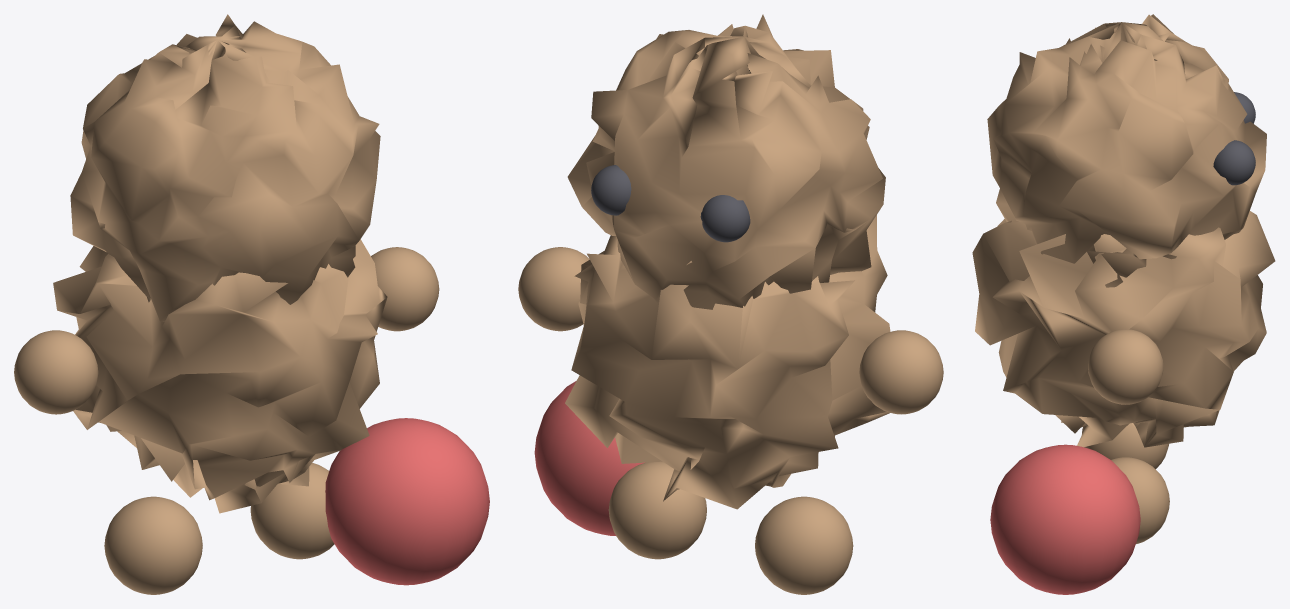
File: clay_dog_red_ball.glb
The picture shows the model from 3 angles, left to right: view 1: azimuth 30°, elevation 25°; view 2: azimuth 150°, elevation 25°; view 3: azimuth 270°, elevation 25°; orthographic projection. The views are drawn at different scales.
Parts seen in each view (by area): view 1: ball; view 2: ball; view 3: ball.
Boxes of the visible parts, x1=… form: ball: x1=14, y1=14, x2=489, y2=594; ball: x1=518, y1=14, x2=943, y2=594; ball: x1=972, y1=14, x2=1275, y2=594.
Size of the model in its own units: 1.47 by 1.82 by 1.01.
